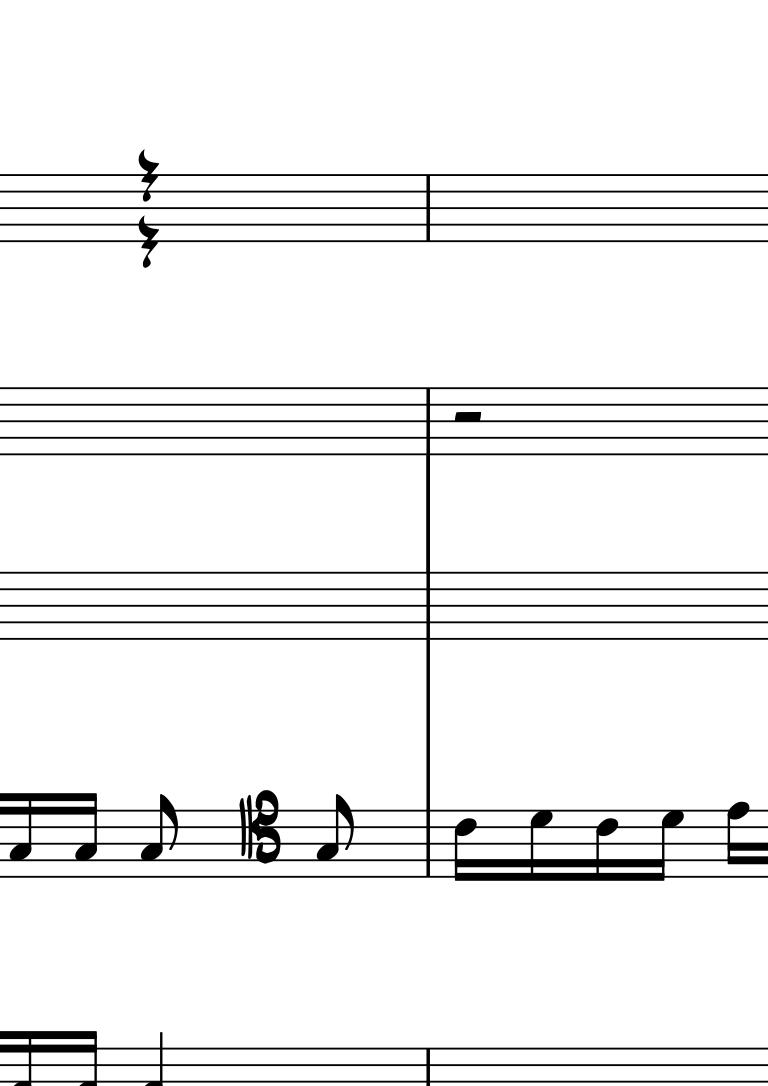16_3: (7, 790, 35, 880), (73, 788, 99, 879)
16_6: (452, 807, 478, 884), (594, 808, 620, 882)
16_7: (650, 807, 685, 885), (527, 806, 553, 885)
16_8: (725, 800, 751, 879)
8_3: (139, 792, 179, 879), (315, 791, 355, 877)
Rests2: (450, 409, 486, 428)
Rests4: (137, 214, 162, 272), (136, 147, 160, 203)
Single_barline: (418, 572, 438, 640), (419, 809, 438, 877), (418, 388, 437, 454), (419, 174, 437, 241)
Tensor_Cclef: (237, 788, 285, 879)
